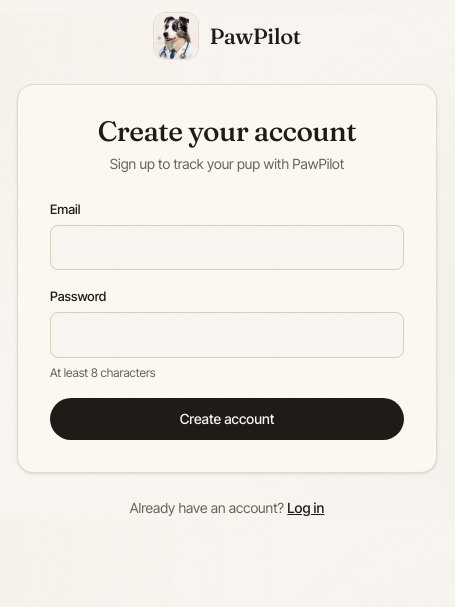
Test: SignupPage › surfaces a friendly message with login link when the email already exists
Type "taken@b.co" into the field labelled "Email" at {"x": 227, "y": 248}, box [50,225,404,270]
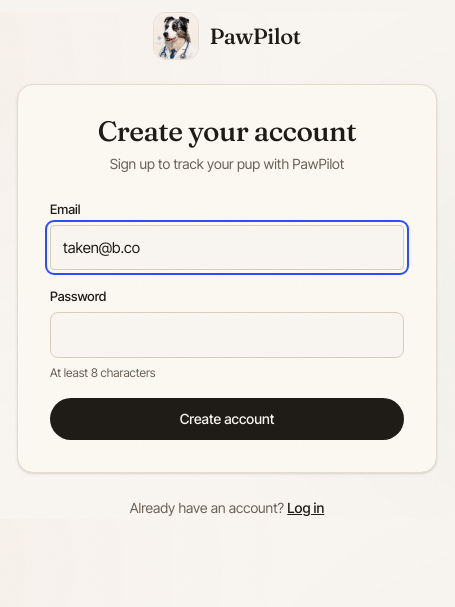
Type "12345678" into the password field labelled "Password" at {"x": 227, "y": 335}, box [50,312,404,358]
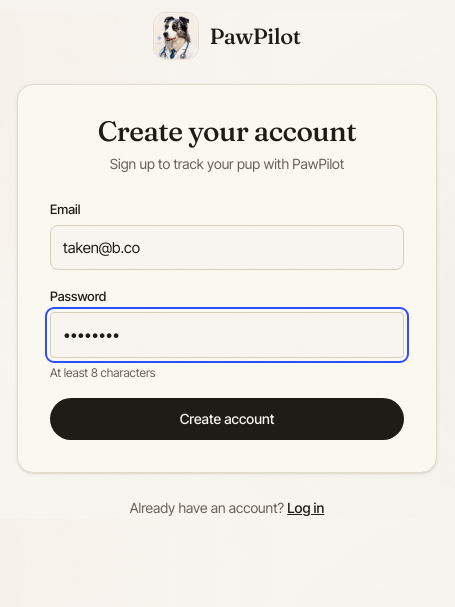
Click the button "Create account" at {"x": 227, "y": 419}, box [50,398,404,440]
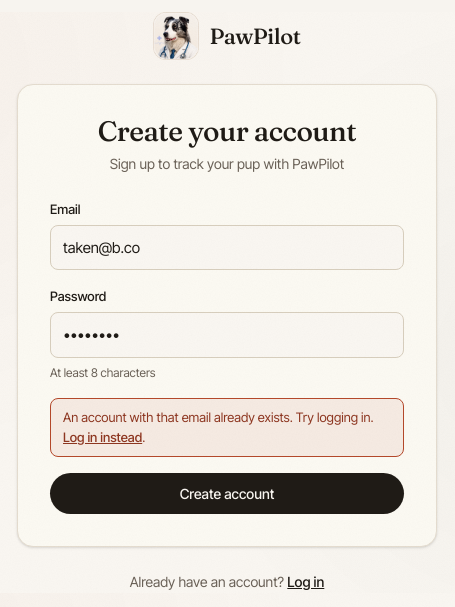
Result: the message shows "already exists" at [63,409,374,425]
